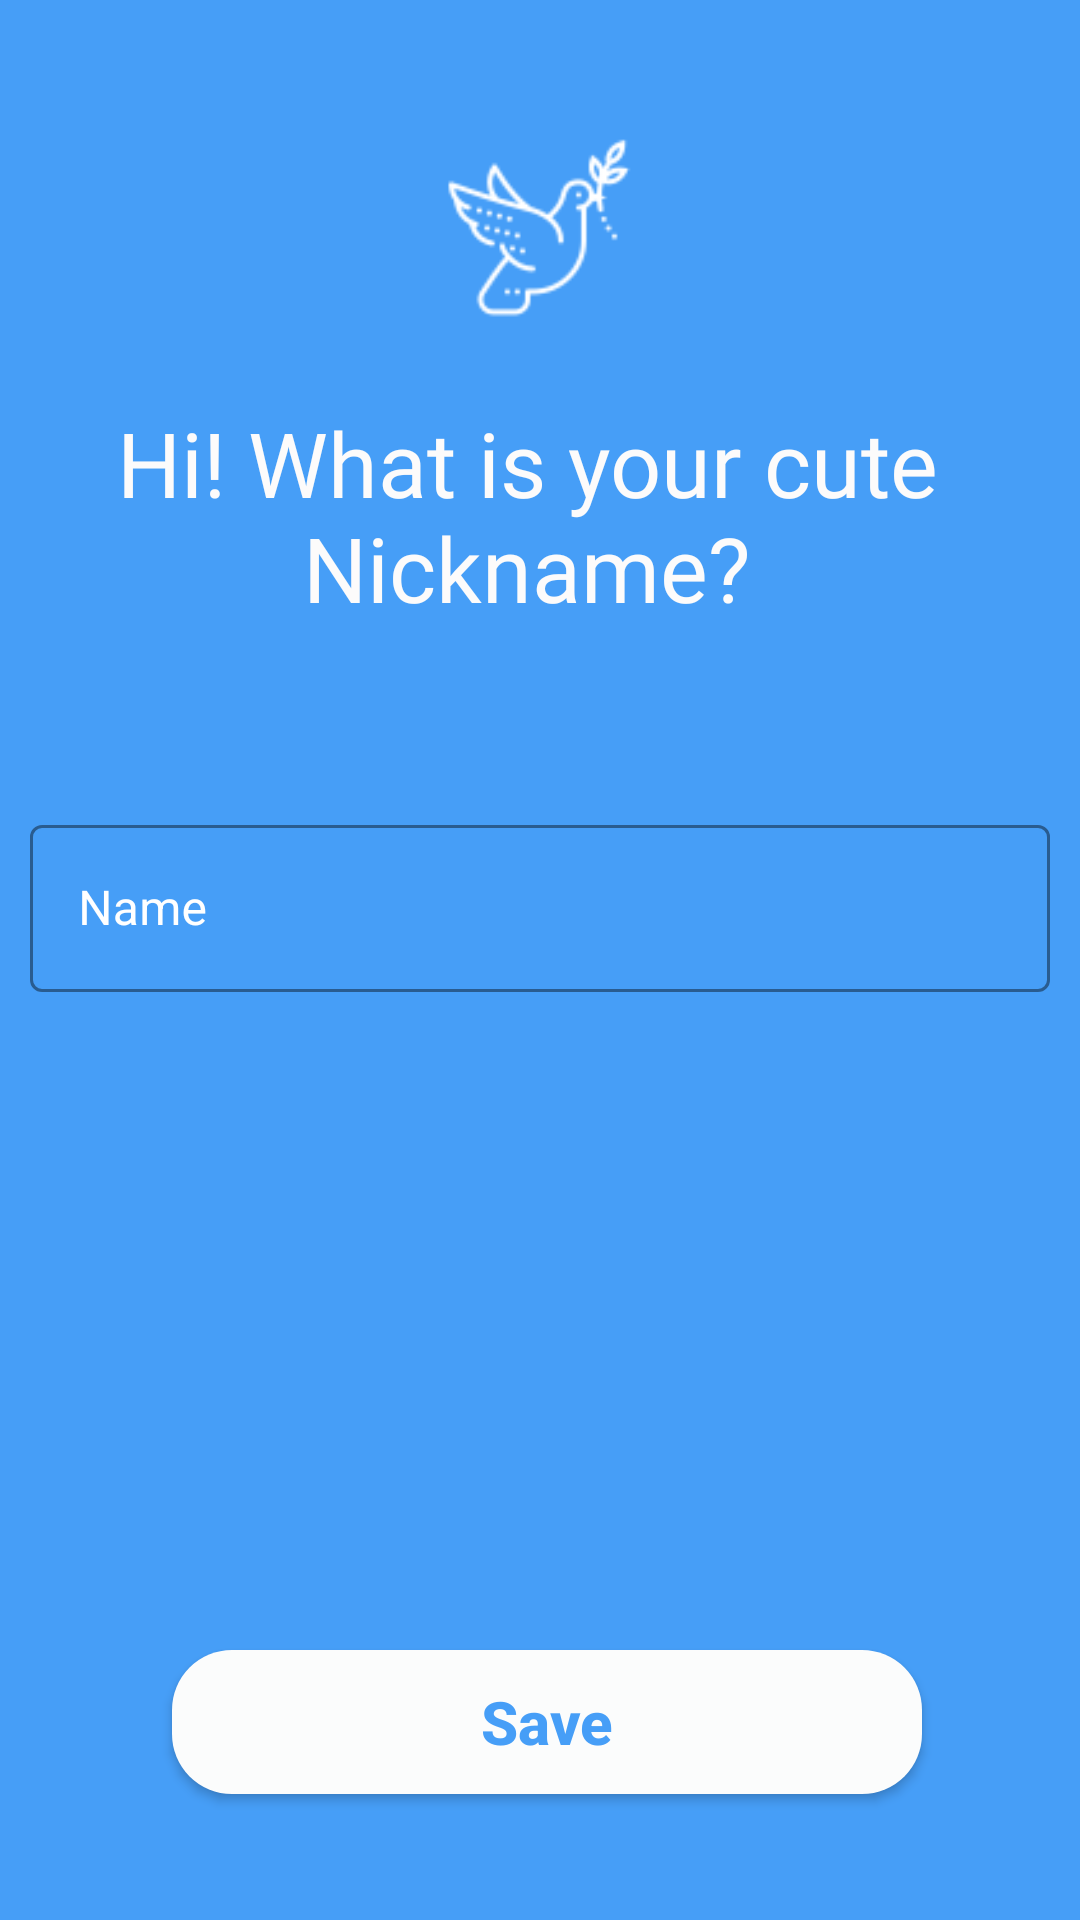

Locate icon controls on the screen. Image size 1080px x 1920px, boxes as (x1, y1, x2, y2).
iconapp: (448, 139, 630, 317)
